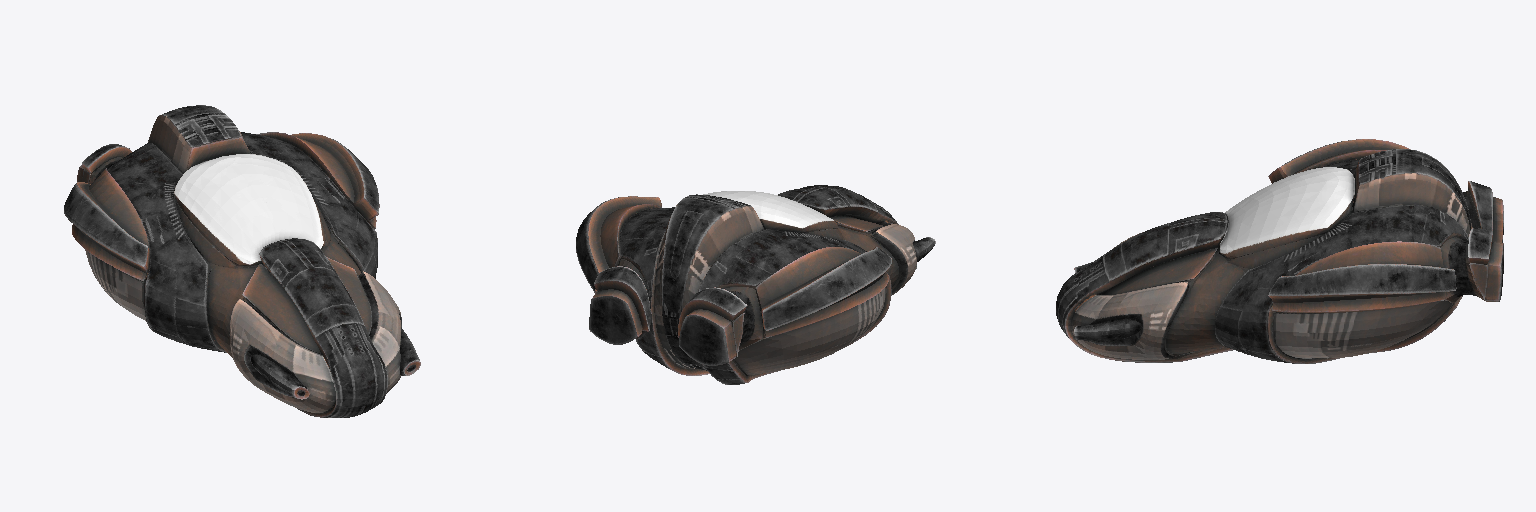
3 views of the same model, side by side, from view 1: azimuth 30°, elevation 25°; view 2: azimuth 150°, elevation 25°; view 3: azimuth 270°, elevation 25° (orthographic).
Parts seen in each view (by area): view 1: EnemySeven; view 2: EnemySeven; view 3: EnemySeven.
Part boxes in pixels (left/top/right/bottom): EnemySeven: left=64, top=105, right=420, bottom=417; EnemySeven: left=576, top=185, right=935, bottom=384; EnemySeven: left=1056, top=139, right=1503, bottom=363.
Bounding box in the file's own units: 2.26 × 1.5 × 3.09.
1 materials, 1 textured.